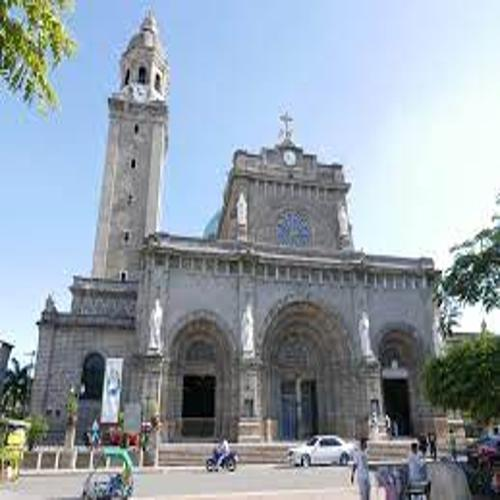Manila Cathedral Church: (27, 7, 450, 454)
